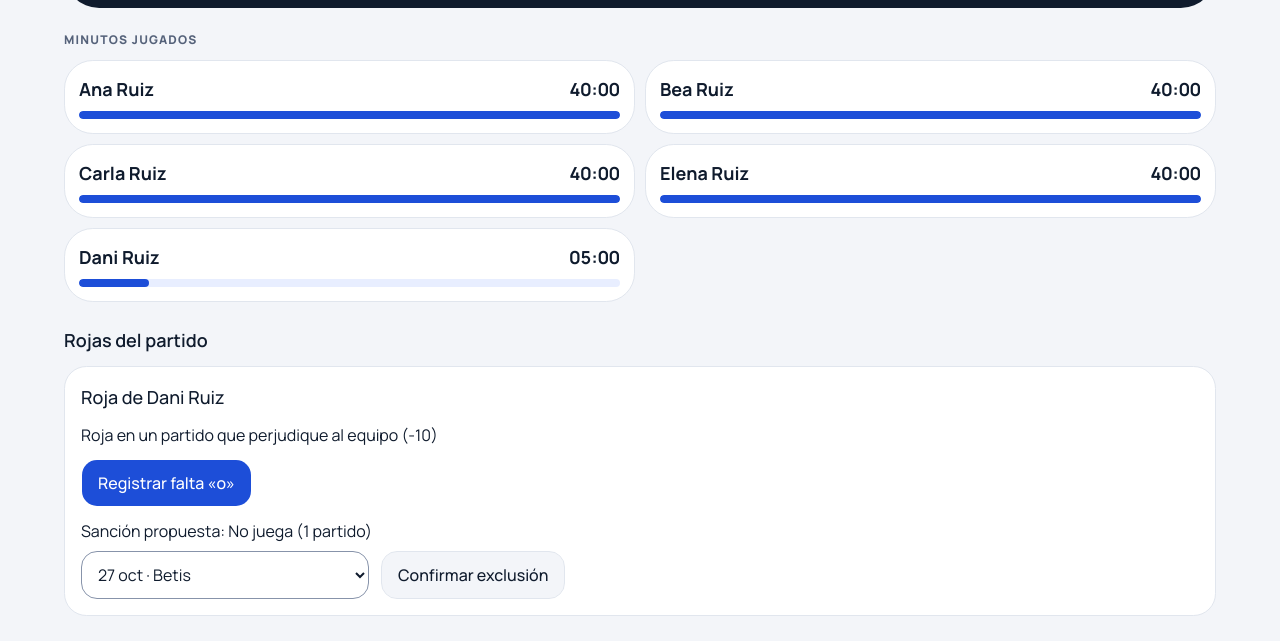
Test case: rojas en el resumen del partido › avisa si no se puede confirmar la exclusión
The image size is (1280, 641).
(page scrolled)
Select "27 oct · Betis" in the dropdown named "Partido de la exclusión de Dani Ruiz". click: (225, 575)
box: [81, 551, 369, 599]
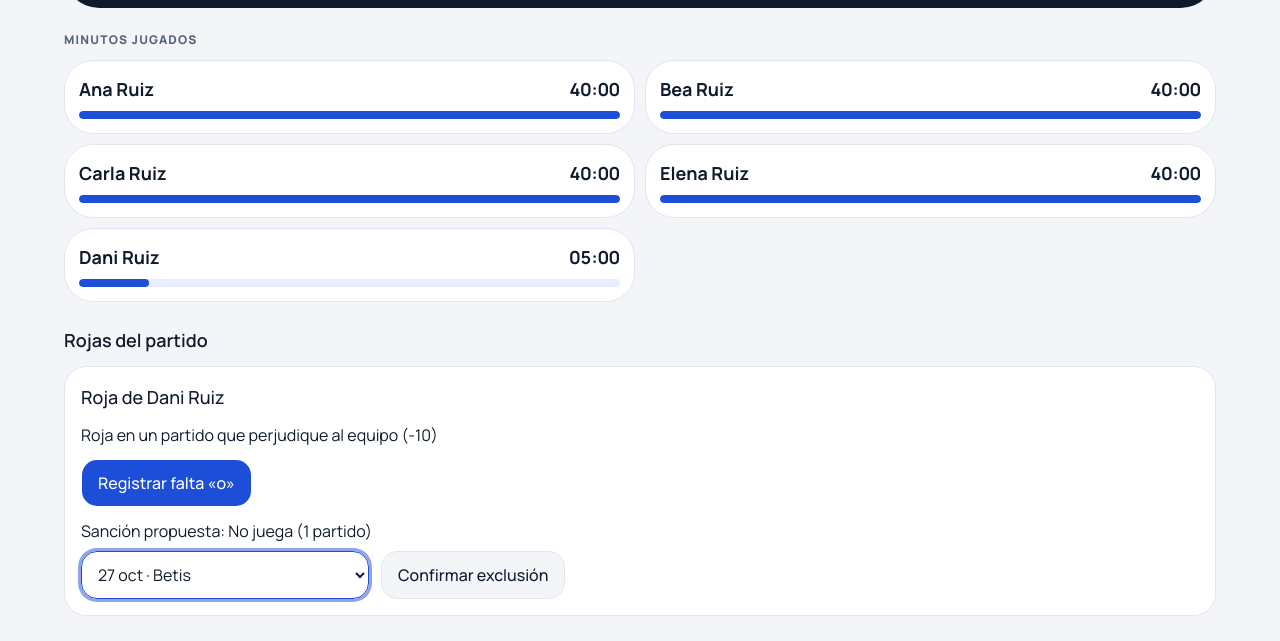
Click the button with aria-label "Confirmar exclusión de Dani Ruiz". click: (473, 575)
box: [381, 551, 565, 599]
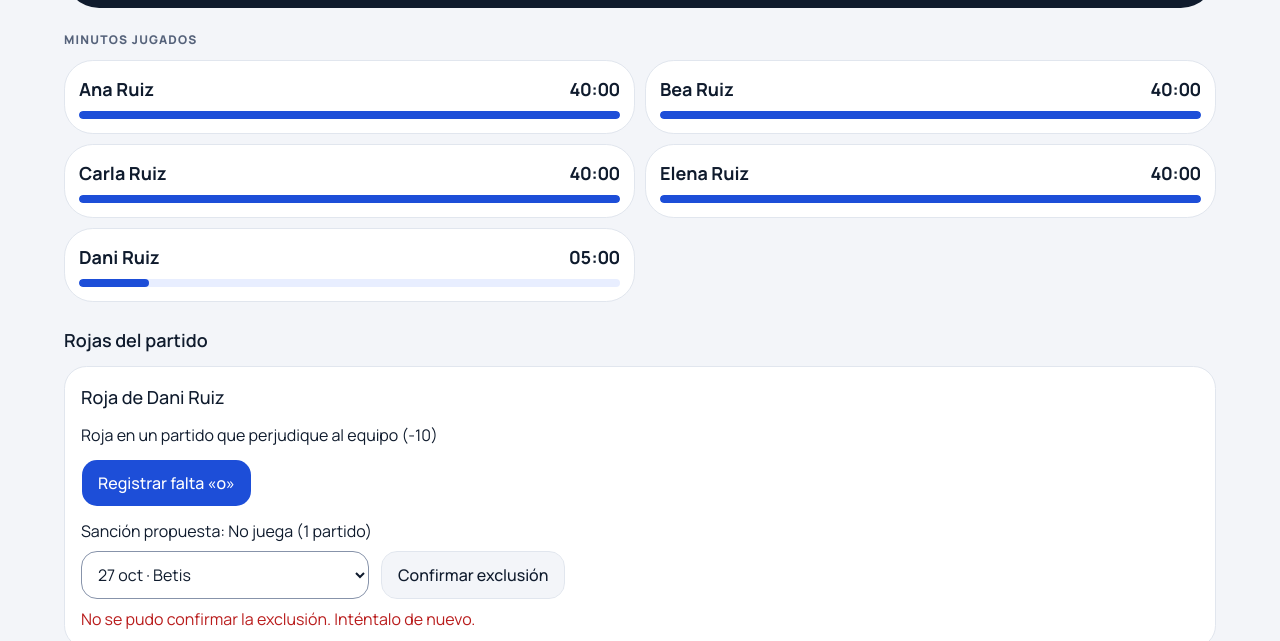
Check: the message shows "No se pudo confirmar la exclusión", box [81, 608, 475, 630]
